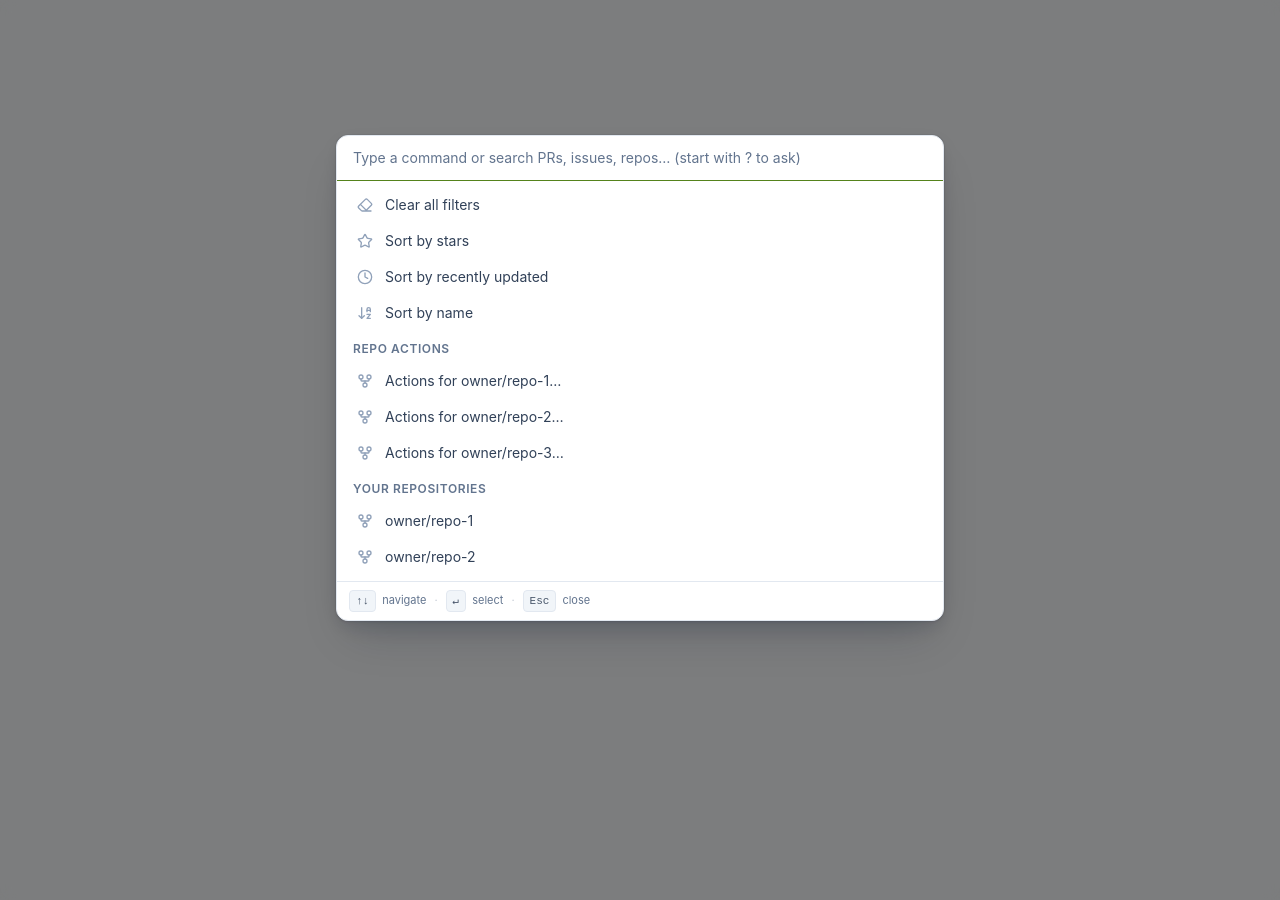
CommandPalette — repo actions drill-down (G8) › selecting a repo drills into a scoped, uncapped action list and hides the top-level groups
The width and height of the screenshot is (1280, 900).
(page scrolled)
Click the option "Actions for owner/repo-1…". click: [459, 380]
box: [357,372,561,389]
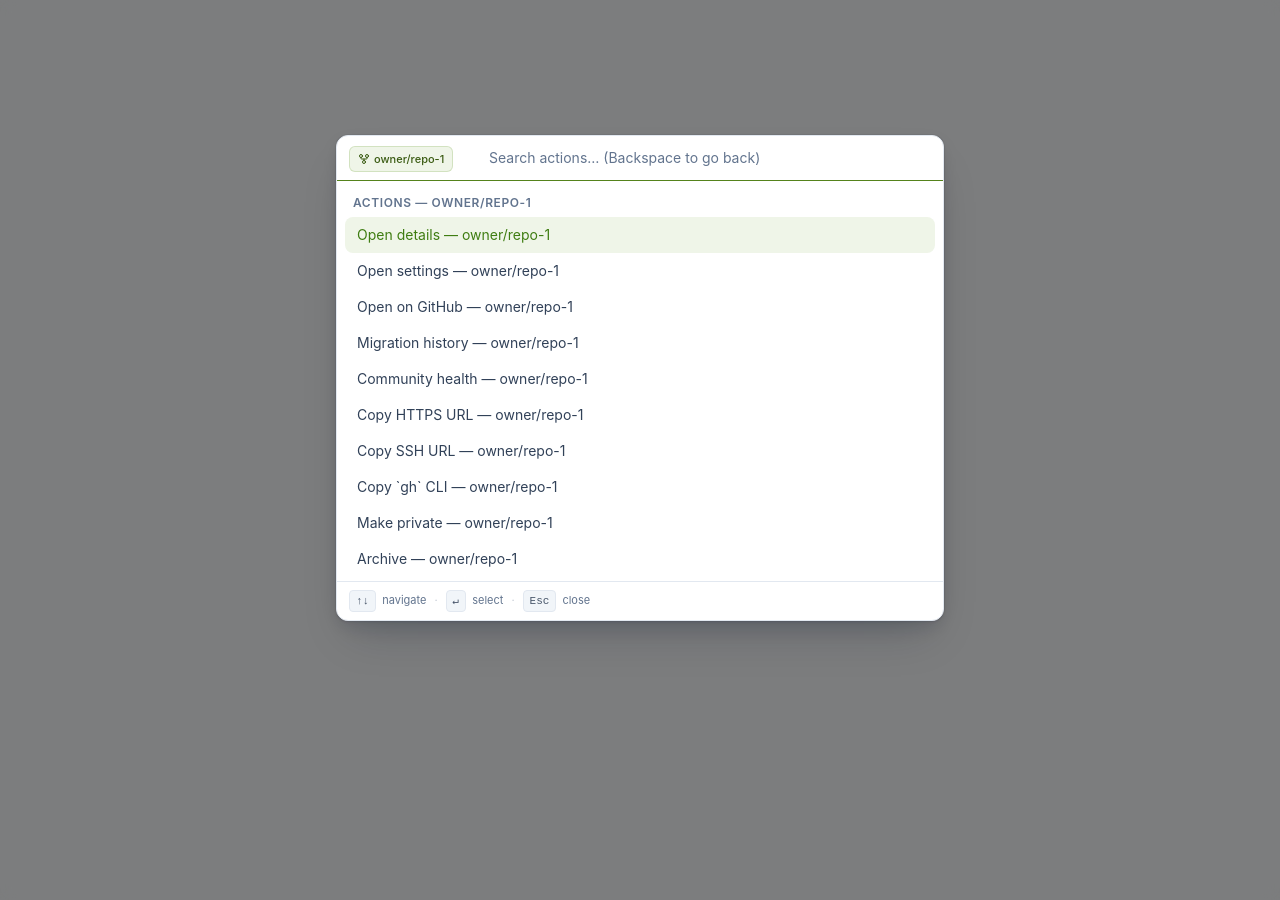
expect the text "Actions — owner/repo-1" is shown: met, box [353,195,532,210]
expect the option "Open details — owner/repo-1" is shown: met, box [345,217,935,253]
expect the option "Copy HTTPS URL — owner/repo-1" is shown: met, box [357,406,584,423]
